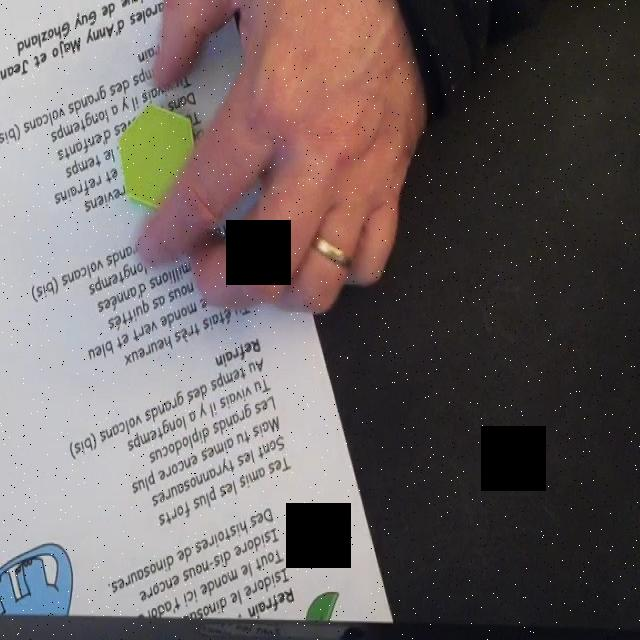hexagon: (117, 101, 201, 210)
